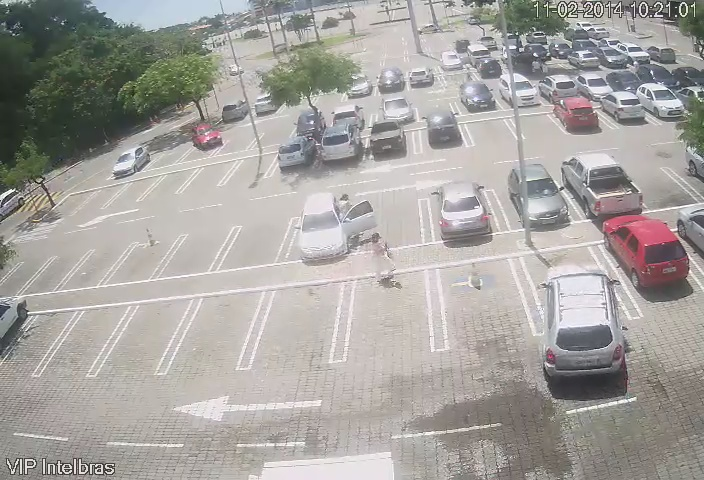car: (538, 264, 627, 375), (606, 224, 686, 285), (291, 192, 367, 253), (498, 163, 571, 225), (558, 157, 635, 211), (298, 197, 365, 252), (425, 190, 489, 238), (366, 116, 410, 160), (320, 129, 369, 166), (641, 83, 682, 122), (497, 74, 536, 106), (423, 115, 459, 148), (272, 136, 310, 166), (113, 145, 149, 176), (539, 75, 577, 102), (553, 106, 594, 131), (603, 97, 641, 123), (455, 85, 488, 113), (607, 69, 640, 95), (637, 64, 672, 88), (379, 97, 411, 122), (294, 112, 324, 137), (189, 127, 222, 148), (328, 111, 367, 128), (580, 78, 610, 98), (677, 64, 703, 87)
lot: (343, 278, 440, 359), (258, 282, 341, 373), (432, 269, 526, 345), (185, 288, 257, 378), (116, 297, 180, 382), (61, 299, 112, 382), (354, 197, 426, 246), (24, 304, 63, 380), (230, 219, 287, 265), (178, 226, 225, 280), (81, 238, 125, 287), (120, 243, 169, 281), (35, 249, 79, 290), (506, 111, 559, 143), (1, 256, 41, 296), (458, 121, 517, 143), (188, 166, 232, 194), (242, 124, 286, 149), (236, 157, 277, 183), (117, 178, 150, 209), (153, 171, 188, 200), (82, 190, 115, 215), (52, 192, 81, 218), (410, 98, 460, 113), (153, 145, 186, 166), (214, 134, 257, 150)
